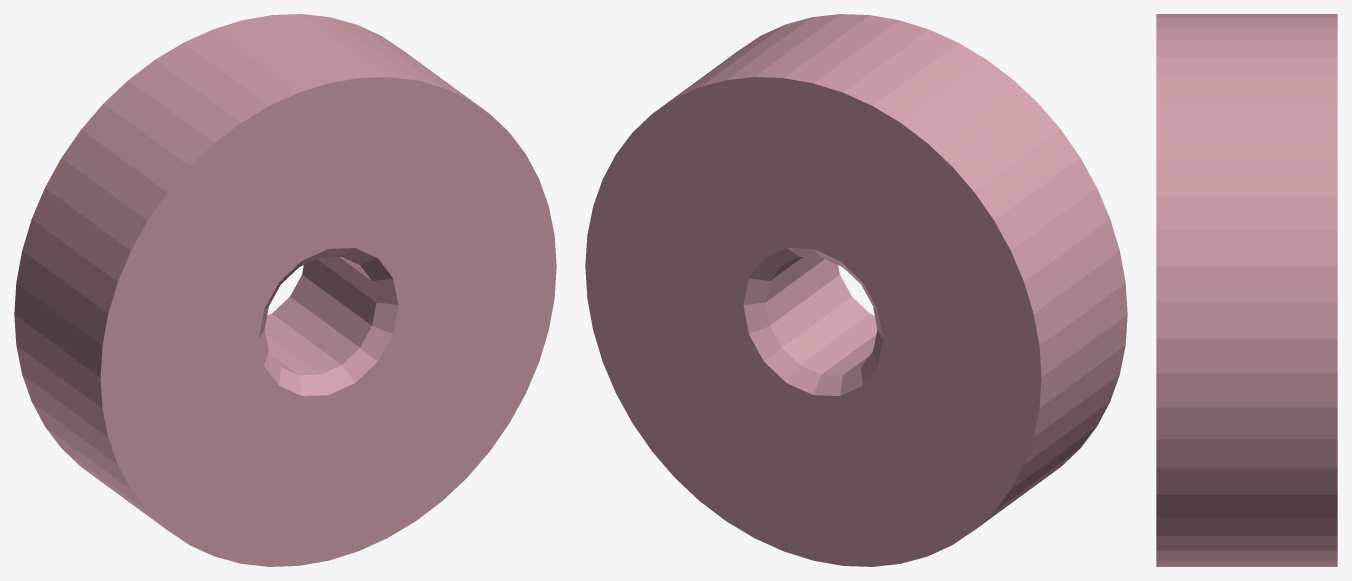
Rendered from ring_04_coll.glb.
3 renders of one model, left to right at view 1: azimuth 30°, elevation 25°; view 2: azimuth 150°, elevation 25°; view 3: azimuth 270°, elevation 25°, orthographic. The views are drawn at different scales.
Parts seen in each view (by area): view 1: wedge_06, wedge_05, wedge_07, wedge_04, wedge_08, wedge_03, wedge_09, wedge_14, wedge_13, wedge_15, wedge_12, wedge_02 (+4 smaller); view 2: wedge_06, wedge_05, wedge_07, wedge_04, wedge_08, wedge_03, wedge_09, wedge_14, wedge_13, wedge_15, wedge_12, wedge_02 (+4 smaller); view 3: wedge_01, wedge_00, wedge_02, wedge_15, wedge_03, wedge_14, wedge_04, wedge_13.
Part boxes in pixels (x1,y1,x2,y2): wedge_06: [32, 129, 280, 309]; wedge_05: [81, 60, 301, 283]; wedge_07: [14, 219, 268, 377]; wedge_04: [155, 20, 328, 266]; wedge_08: [14, 315, 268, 464]; wedge_03: [243, 14, 415, 257]; wedge_09: [32, 351, 280, 529]; wedge_14: [290, 275, 538, 451]; wedge_13: [272, 297, 489, 520]; wedge_15: [302, 259, 556, 361]; wedge_12: [264, 314, 415, 560]; wedge_02: [330, 17, 489, 264]; wedge_06: [861, 129, 1109, 309]; wedge_05: [840, 60, 1060, 283]; wedge_07: [873, 219, 1127, 377]; wedge_04: [813, 20, 986, 266]; wedge_08: [873, 315, 1127, 464]; wedge_03: [726, 14, 898, 257]; wedge_09: [861, 351, 1109, 529]; wedge_14: [603, 275, 851, 451]; wedge_13: [652, 297, 869, 520]; wedge_15: [585, 259, 839, 361]; wedge_12: [726, 314, 877, 560]; wedge_02: [652, 17, 811, 264]; wedge_01: [1156, 196, 1337, 302]; wedge_00: [1156, 302, 1337, 407]; wedge_02: [1156, 103, 1337, 195]; wedge_15: [1156, 407, 1337, 494]; wedge_03: [1156, 39, 1337, 103]; wedge_14: [1156, 494, 1337, 550]; wedge_04: [1156, 14, 1337, 39]; wedge_13: [1156, 550, 1337, 566].
Size of the model in its own units: 0.0653 by 0.0653 by 0.0214.
